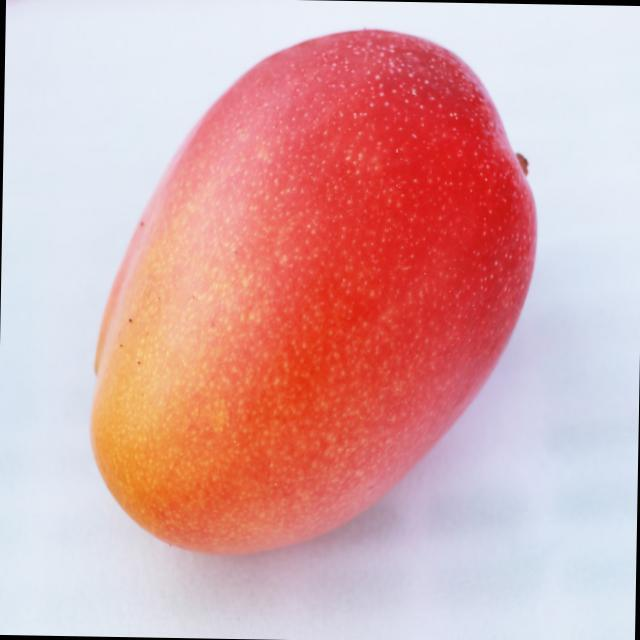mango: (92, 30, 537, 554)
